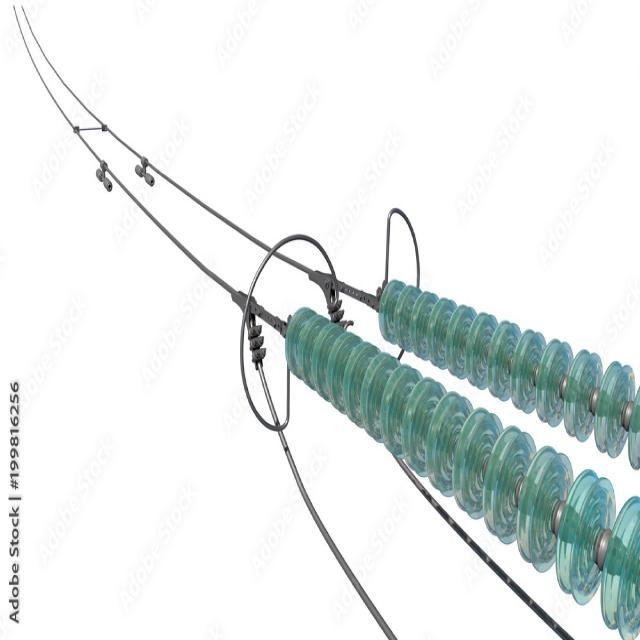insulator: (294, 309, 625, 626), (389, 224, 638, 431)
